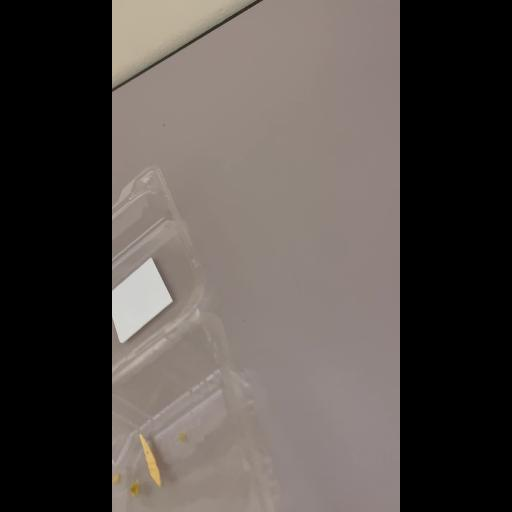small_plastic_container: (112, 160, 278, 512)
